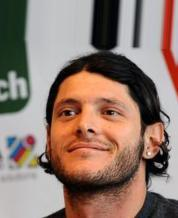face: (58, 98, 124, 158)
